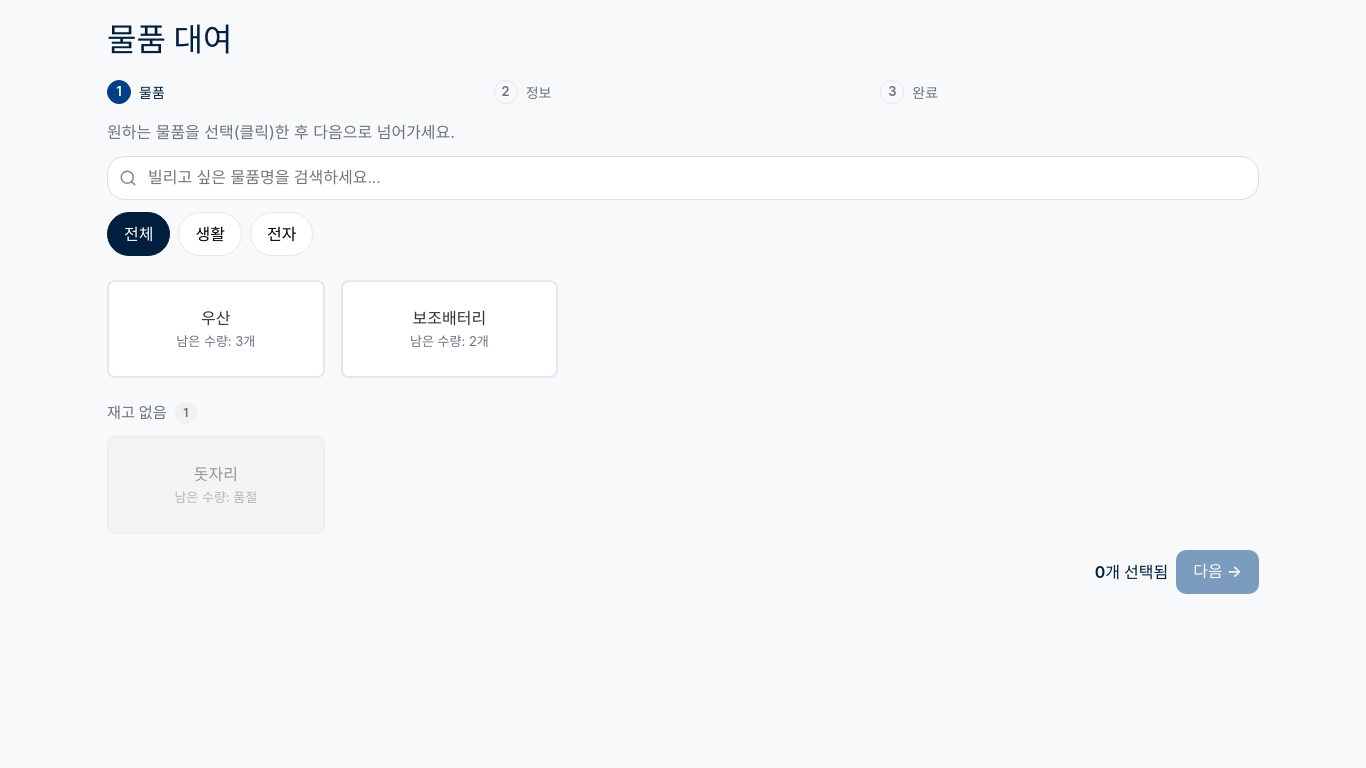
Scenario: BorrowPage wizard › next shows form and keeps cart
The width and height of the screenshot is (1366, 768).
Step 1. Click the button "우산 남은 수량: 3개" → point(216, 329), box [107, 280, 325, 378]
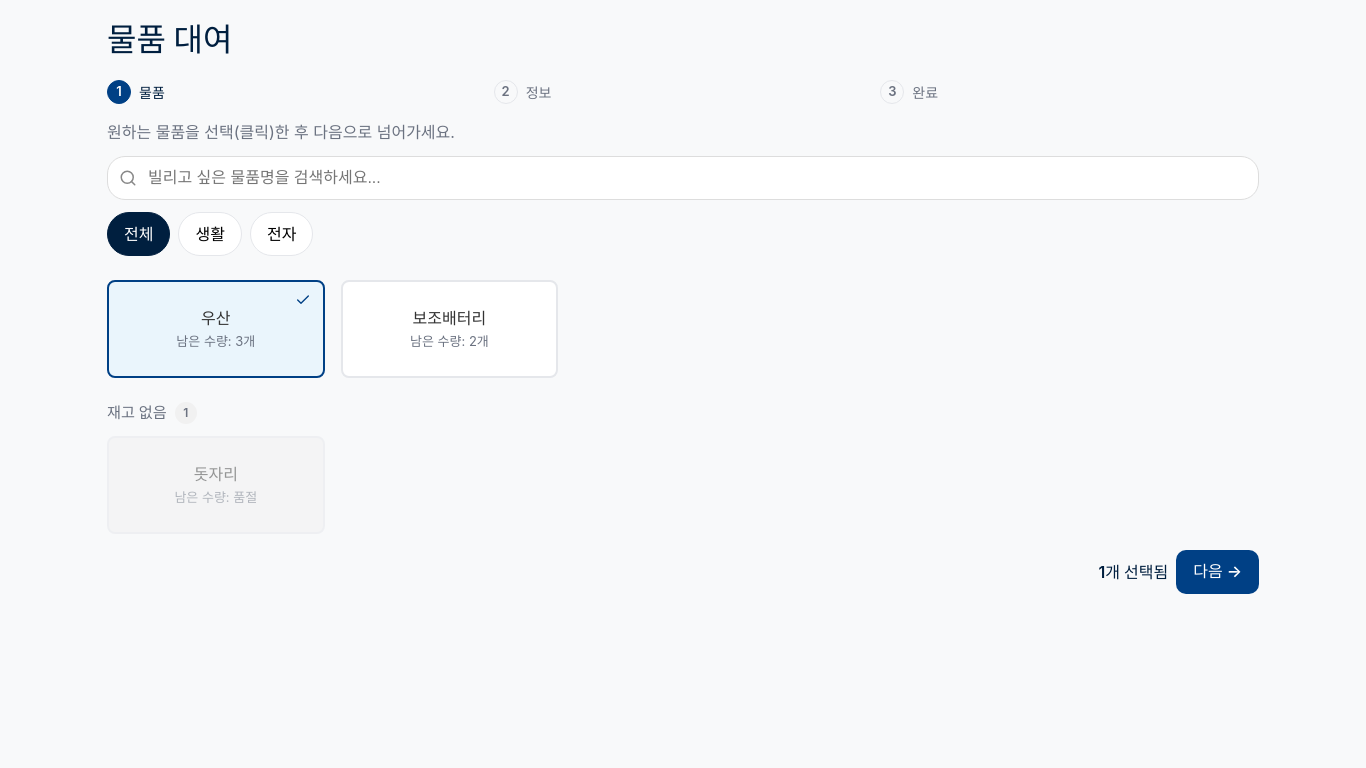
Step 2. Click the button "다음 →" → point(1218, 572), box [1176, 550, 1259, 594]
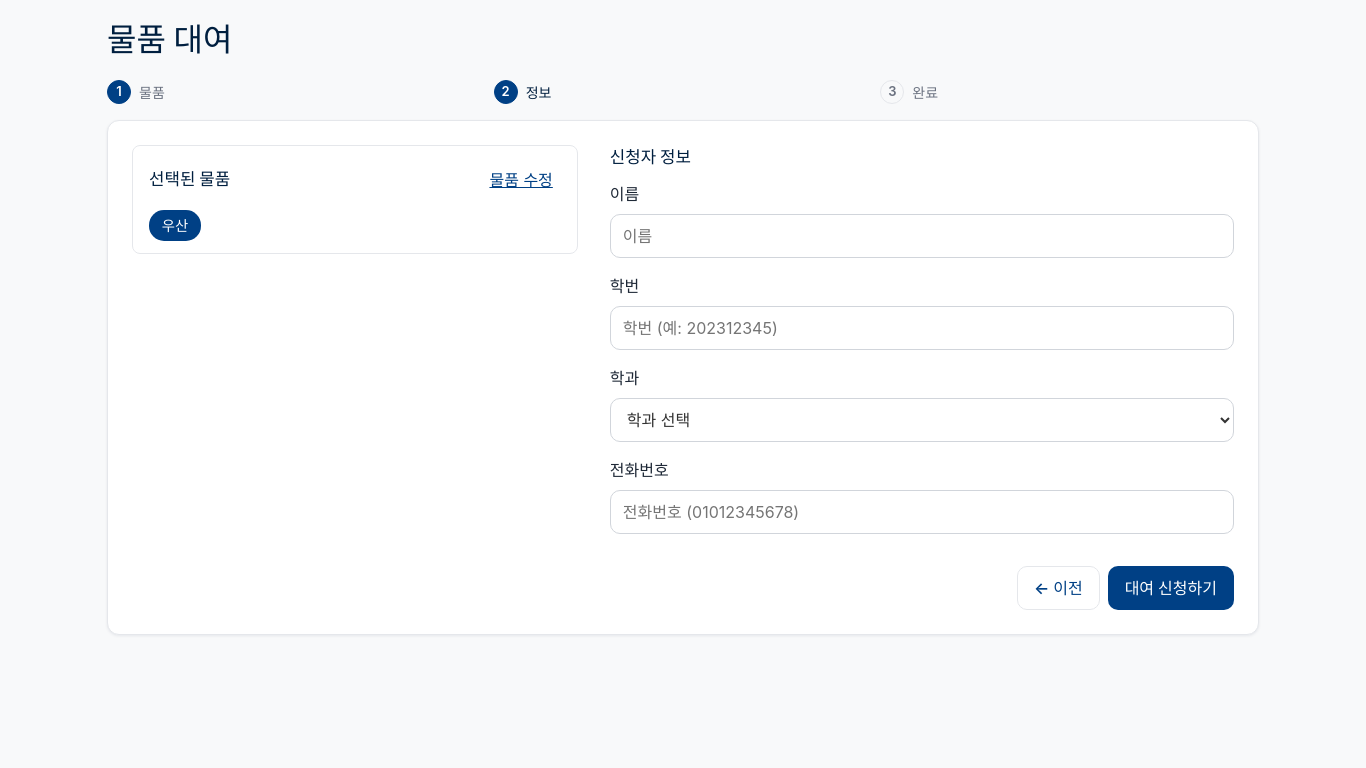
Expected: the text "우산" is shown, [149, 210, 201, 241]
Now the field labelled "이름" is shown, box [610, 214, 1234, 258]
